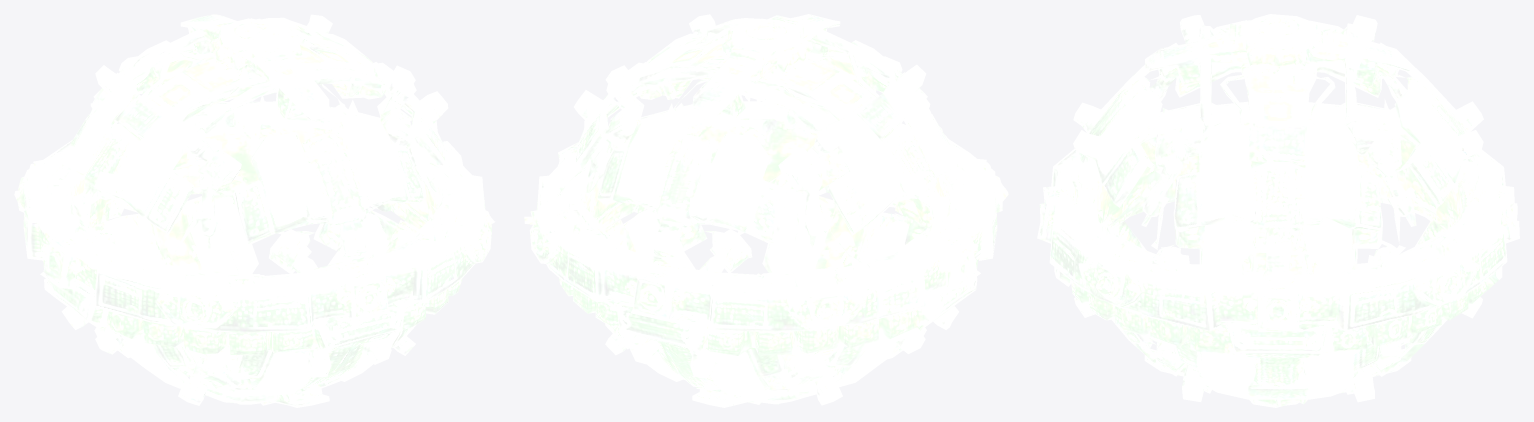
3 renders of one model, left to right at view 1: azimuth 30°, elevation 25°; view 2: azimuth 150°, elevation 25°; view 3: azimuth 270°, elevation 25°, orthographic.
Visible parts, largest first — view 1: Mesh1.0; view 2: Mesh1.0; view 3: Mesh1.0.
Part boxes in pixels (x1,y1,x2,y2): Mesh1.0: [14, 14, 495, 407]; Mesh1.0: [524, 14, 1008, 407]; Mesh1.0: [1037, 14, 1519, 407].
Size of the model in its own units: 1.91 by 1.64 by 1.91.
1 material, 1 textured.
